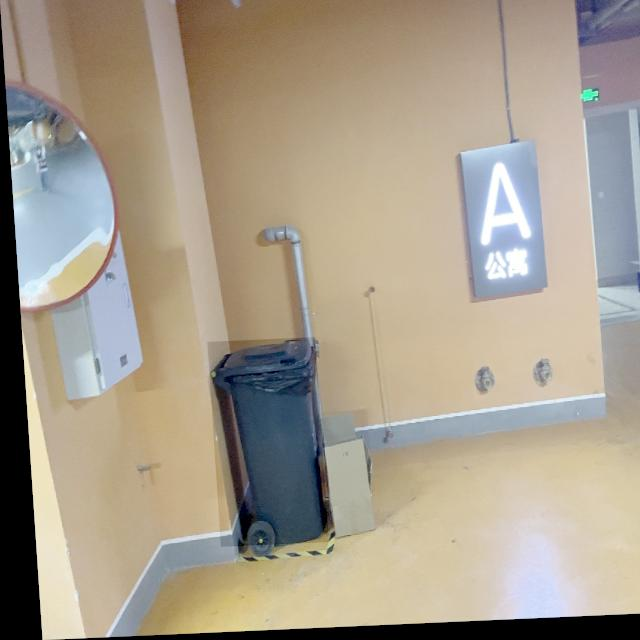garbage: (314, 413, 368, 541)
garbage_bin: (202, 340, 321, 549)
